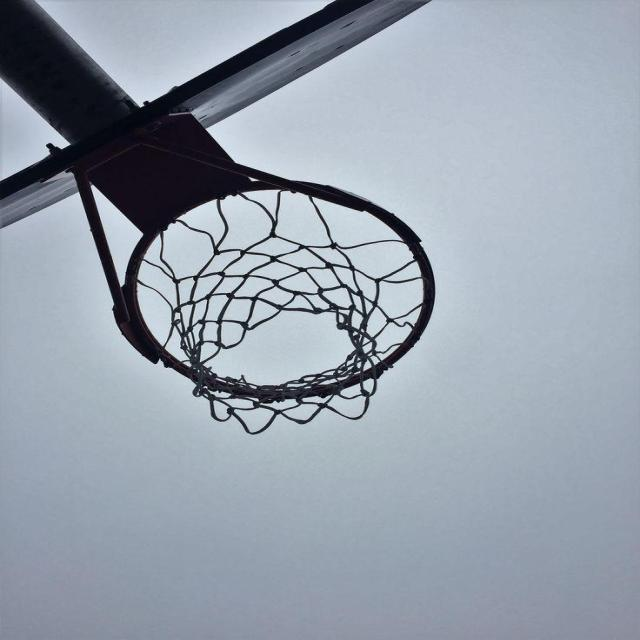hoop: (53, 177, 483, 444)
